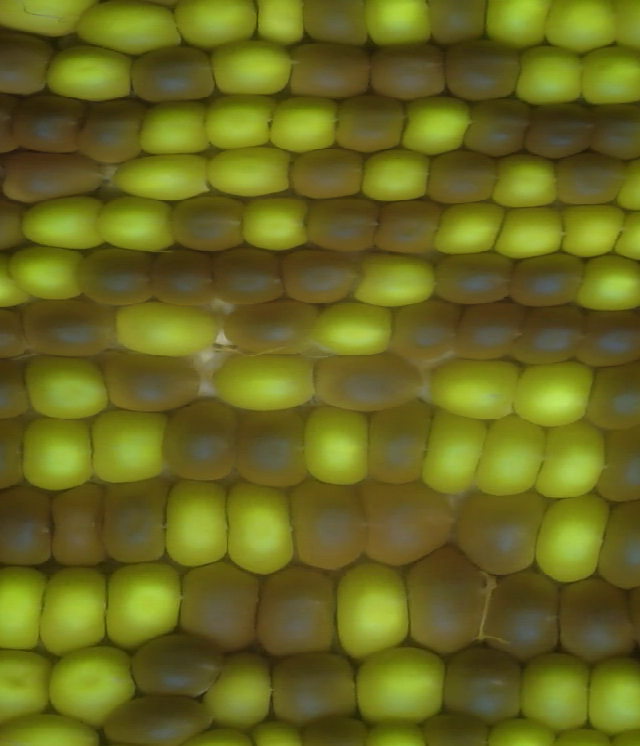fluorescent: (332, 556, 422, 660), (43, 644, 141, 727), (353, 646, 452, 728), (223, 476, 298, 577), (100, 561, 184, 651), (535, 488, 612, 585), (36, 560, 109, 657), (431, 355, 527, 427), (518, 644, 595, 732), (531, 417, 607, 506), (159, 475, 232, 567), (18, 408, 95, 490), (86, 412, 172, 485), (112, 296, 220, 353), (212, 350, 317, 408), (301, 402, 369, 491), (204, 648, 277, 730), (478, 412, 544, 502), (42, 43, 137, 104), (23, 354, 110, 419), (77, 3, 184, 55), (514, 360, 593, 430), (17, 191, 110, 250), (354, 244, 437, 309), (422, 407, 484, 492), (202, 39, 291, 97), (115, 148, 216, 199), (311, 298, 394, 360), (16, 241, 91, 304), (96, 196, 178, 253), (512, 40, 585, 104), (205, 92, 279, 155), (401, 95, 477, 156), (137, 97, 214, 157), (0, 644, 54, 727), (583, 654, 640, 732), (205, 145, 289, 197), (0, 565, 48, 656), (239, 190, 309, 251), (268, 93, 341, 151), (564, 198, 630, 260), (493, 201, 563, 259), (432, 197, 502, 255), (180, 2, 258, 54), (364, 143, 432, 202), (575, 46, 640, 107), (493, 149, 559, 209), (539, 1, 617, 51), (577, 253, 640, 314), (0, 709, 103, 746), (362, 1, 433, 46), (486, 2, 549, 50), (0, 1, 83, 37), (256, 1, 314, 49), (0, 250, 30, 306)
nonfluorescent: (404, 544, 490, 657), (290, 472, 375, 571), (548, 570, 638, 662), (362, 477, 460, 560), (254, 561, 338, 657), (454, 488, 544, 577), (260, 646, 363, 722), (96, 344, 202, 414), (180, 560, 257, 654), (314, 346, 425, 409), (486, 571, 564, 660), (159, 397, 239, 482), (130, 630, 225, 701), (441, 644, 523, 723), (236, 406, 309, 488), (22, 296, 116, 359), (0, 145, 105, 201), (222, 298, 318, 359), (127, 39, 218, 103), (99, 695, 215, 745), (205, 238, 290, 306), (364, 397, 428, 487), (427, 248, 525, 306), (285, 40, 373, 104), (46, 485, 111, 571), (10, 85, 84, 159), (277, 245, 363, 308), (106, 480, 167, 567), (305, 193, 385, 259), (77, 246, 157, 311), (444, 38, 525, 102), (373, 192, 447, 262), (367, 37, 451, 98), (417, 146, 502, 206), (515, 297, 585, 367), (457, 298, 526, 369), (174, 188, 249, 253), (391, 298, 462, 366), (0, 482, 54, 571), (510, 249, 590, 308), (333, 87, 402, 155), (84, 96, 148, 164), (463, 96, 528, 162), (522, 97, 590, 160), (551, 148, 621, 209), (294, 146, 370, 202), (575, 306, 640, 371), (151, 241, 214, 307), (600, 495, 640, 592), (588, 360, 640, 433), (0, 27, 54, 95), (588, 96, 640, 160), (598, 423, 640, 502), (301, 2, 369, 44), (428, 2, 488, 43), (0, 83, 31, 157), (0, 419, 31, 492), (0, 353, 32, 422), (0, 195, 30, 259), (0, 306, 30, 361)
